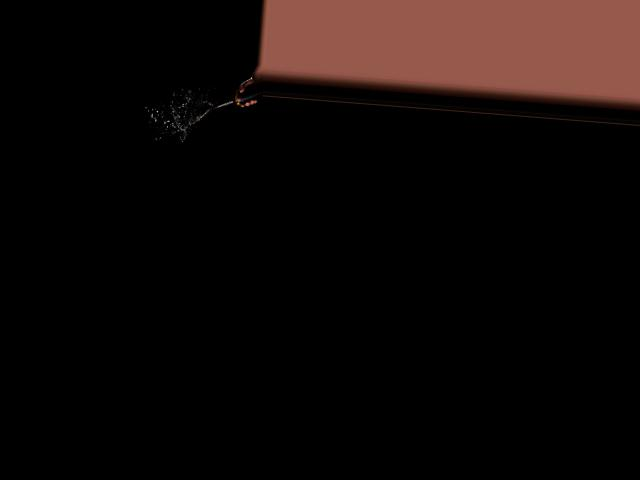beer: (212, 76, 263, 113)
